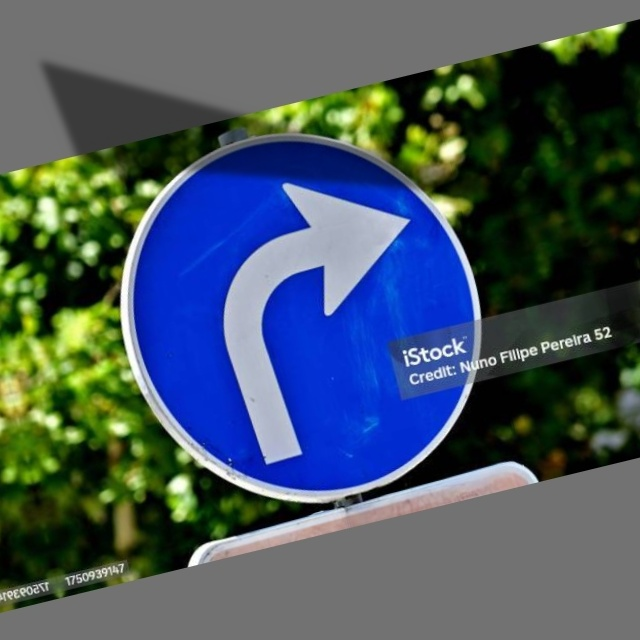Compulsory_Turn_Right_Ahead: (95, 97, 508, 522)
